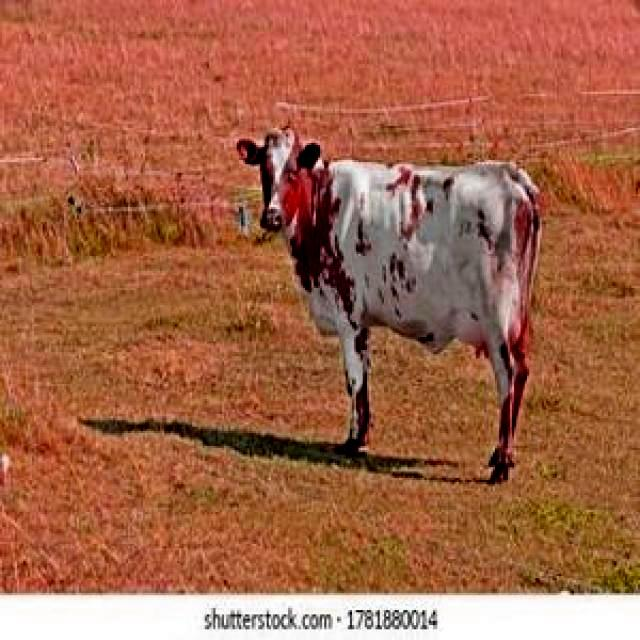COW: (238, 130, 540, 481)
